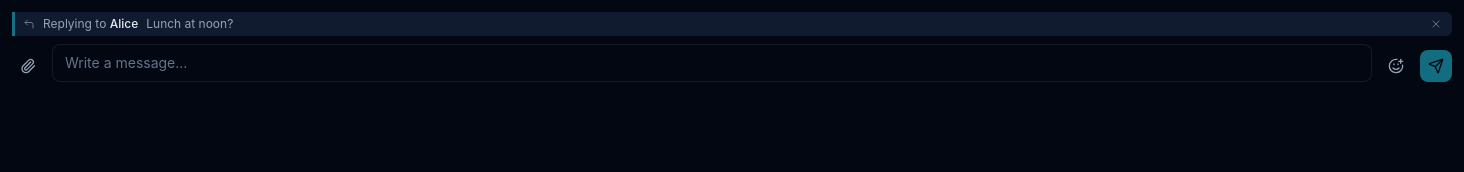
Scenario: Composer — reply › sends a reply with its parent and clears the reply bar
Expected: the text "Alice" is shown, left=110, top=16, right=138, bottom=31
Expected: the text "Replying to" is shown, left=43, top=16, right=110, bottom=31
Type "agreed" into the text box at (712, 63), box left=52, top=44, right=1372, bottom=82
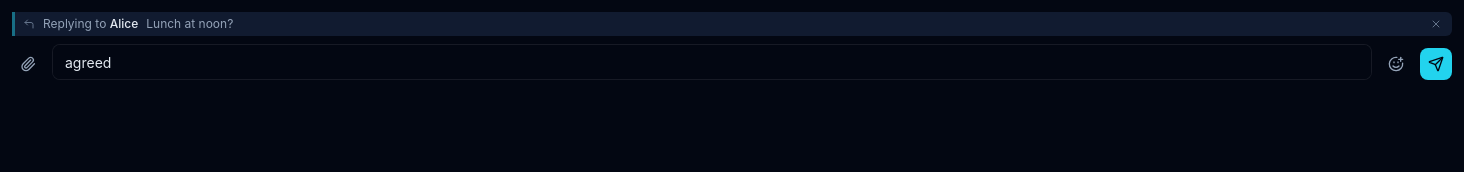
Press Enter in the text box, box left=52, top=44, right=1372, bottom=80
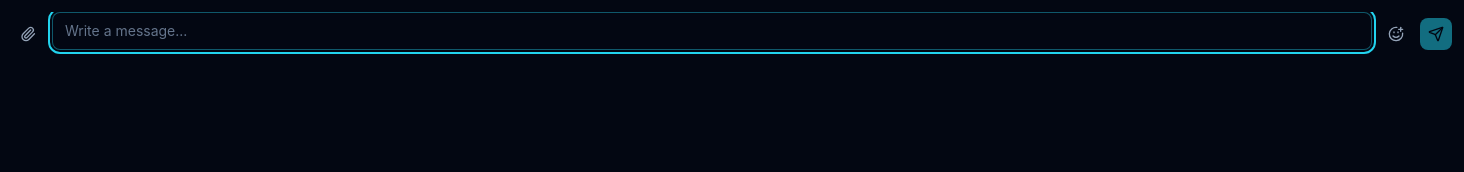
Expected: the text "Replying to" is gone
